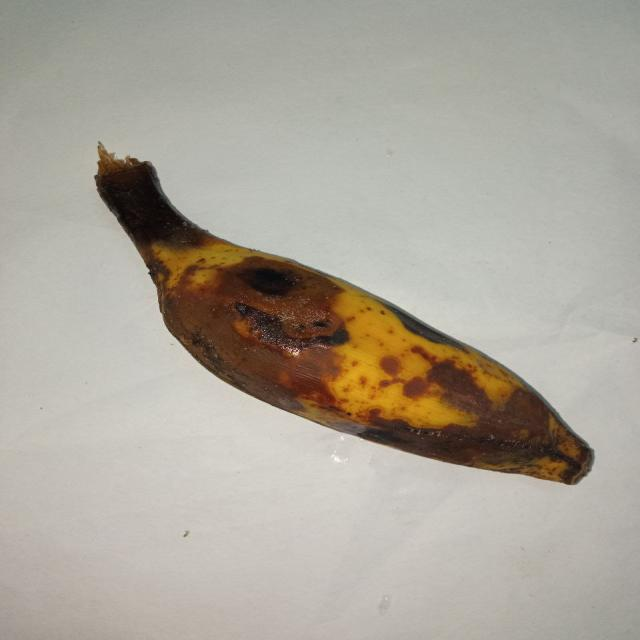rotten_banana: (90, 161, 599, 483)
